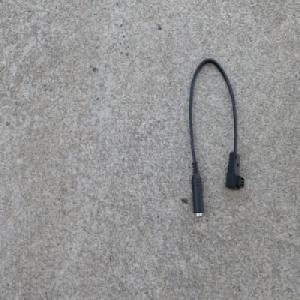Wire: (187, 56, 245, 222)
